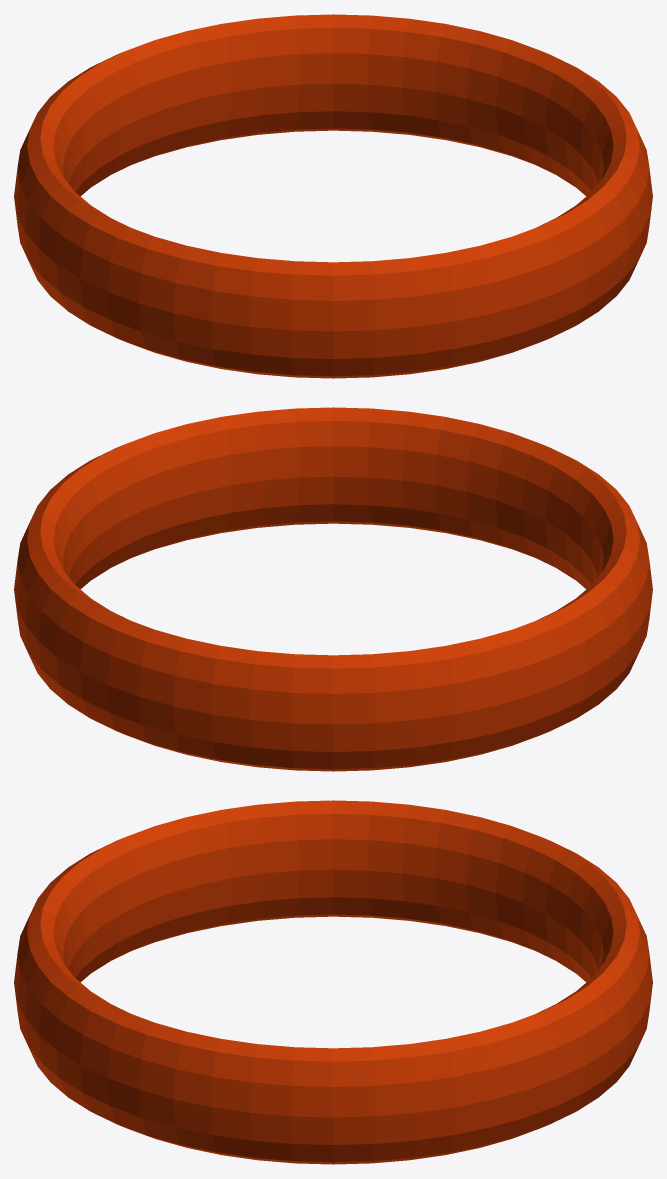
The model's file is Ring.obj.
3 renders of one model, top to bottom at view 1: azimuth 30°, elevation 25°; view 2: azimuth 150°, elevation 25°; view 3: azimuth 270°, elevation 25°, orthographic.
Parts seen in each view (by area): view 1: Torus.005; view 2: Torus.005; view 3: Torus.005.
Part boxes in pixels (x1,y1,x2,y2): Torus.005: (14, 14, 652, 378); Torus.005: (14, 407, 652, 771); Torus.005: (14, 800, 652, 1164).
Bounding box in the file's own units: 2.18 × 0.4373 × 2.18.
